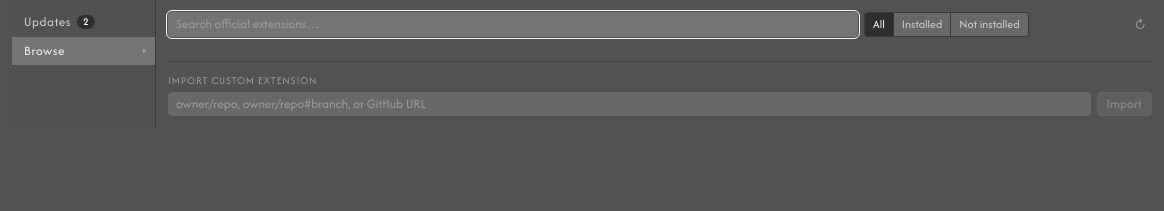
Test: ExtensionManagerPanel Update all › names the extensions that failed to update
Click the button "Updates 2". click: (84, 22)
box: [12,8,155,36]
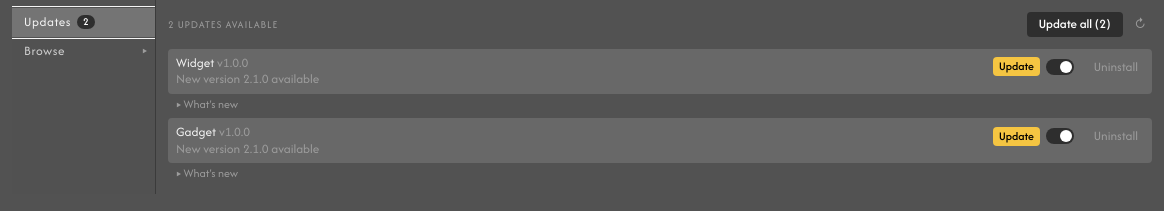
Click the button "Update all (2)". click: (1075, 24)
box: [1027,12,1122,36]
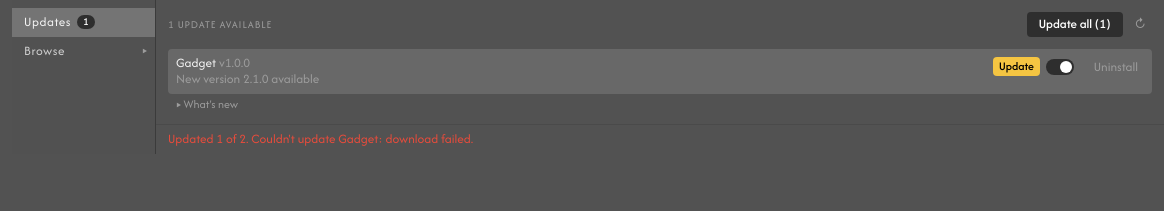
expect the text "Updated 1 of 2. Couldn't update Gadget: download failed." is shown: met, box [156,124,1163,154]
